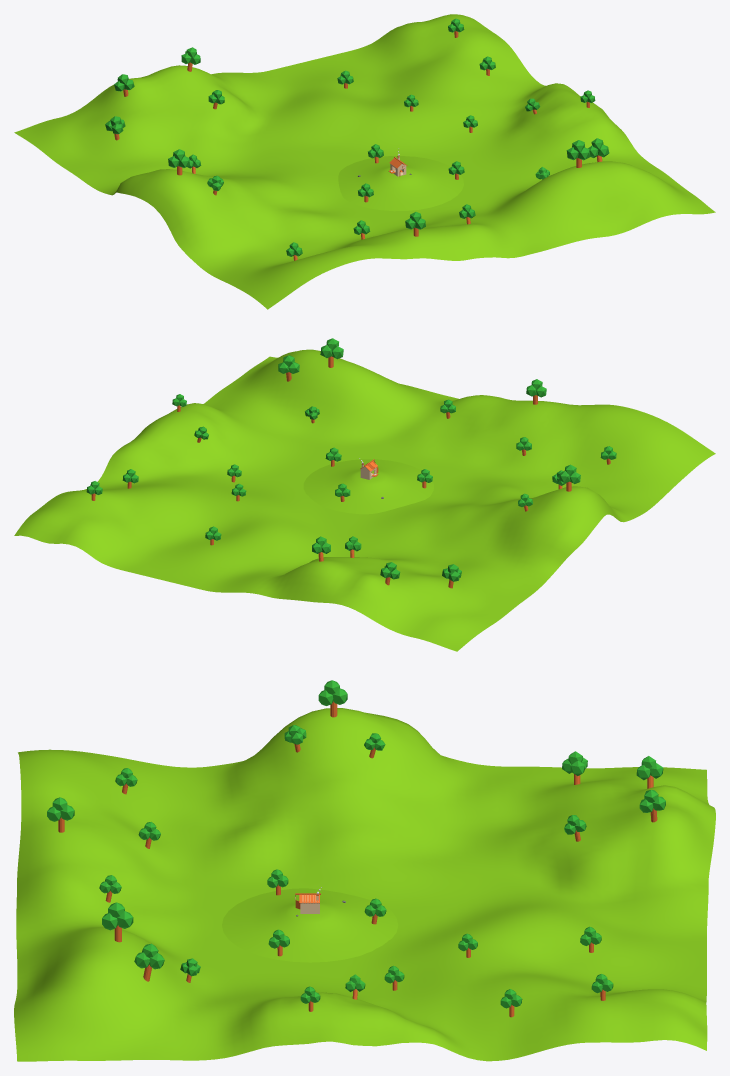
File: portfolio.fbx
3 renders of one model, top to bottom at view 1: azimuth 30°, elevation 25°; view 2: azimuth 150°, elevation 25°; view 3: azimuth 270°, elevation 25°, orthographic. The views are drawn at different scales.
Visible parts, largest first — view 1: Terrain.001, Terrain; view 2: Terrain.001, Terrain; view 3: Terrain.001, Terrain.
Part boxes in pixels (x1=…): Terrain.001: x1=14, y1=14, x2=715, y2=309; Terrain: x1=338, y1=156, x2=463, y2=211; Terrain.001: x1=14, y1=349, x2=715, y2=651; Terrain: x1=303, y1=459, x2=433, y2=514; Terrain.001: x1=14, y1=708, x2=715, y2=1061; Terrain: x1=222, y1=888, x2=398, y2=962.
Size of the model in its own units: 10539 by 1751 by 10382.
